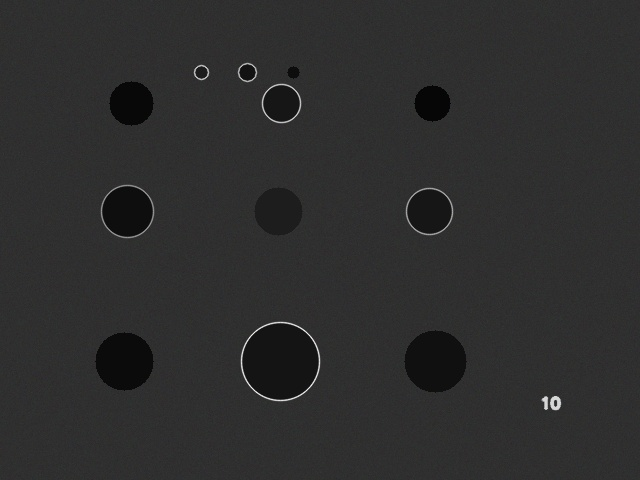hole: (241, 322, 319, 400), (404, 330, 466, 392), (95, 332, 153, 390), (101, 185, 153, 237), (254, 187, 302, 235), (406, 188, 452, 234), (109, 81, 153, 125), (262, 84, 300, 122), (414, 85, 450, 121), (238, 63, 256, 81), (194, 65, 208, 79), (287, 66, 299, 78)
